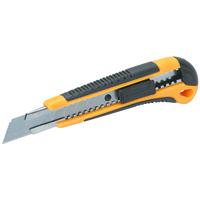knife: (1, 56, 188, 153)
